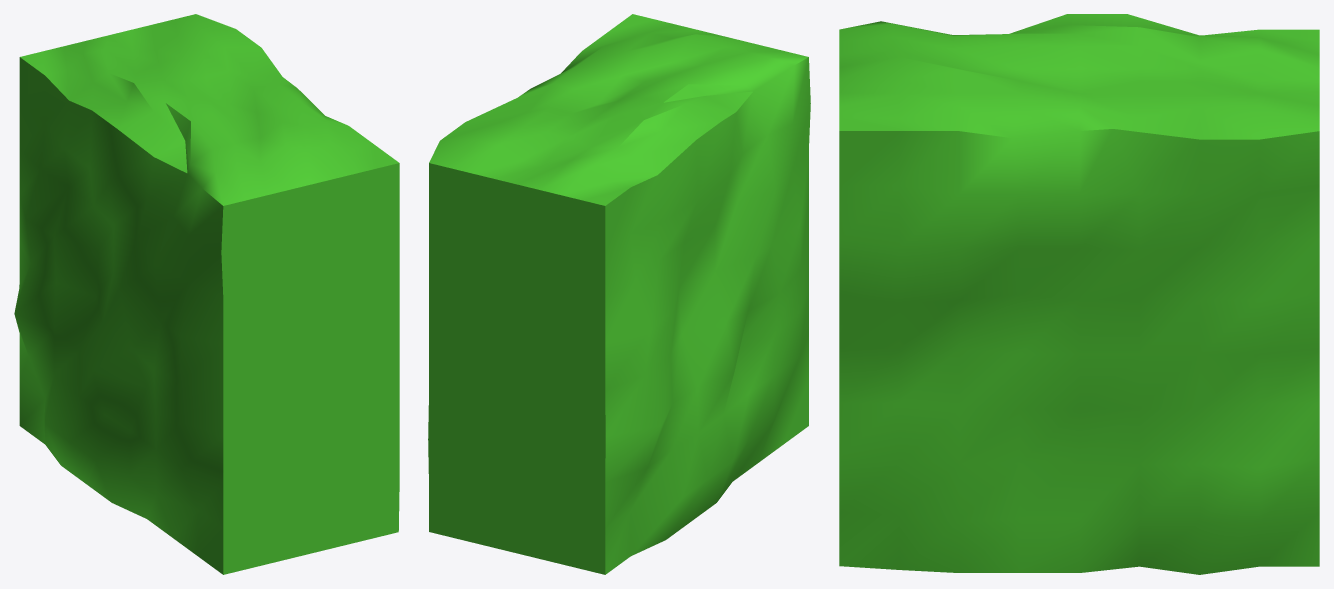
The model's file is yybuisson.fbx.
3 views of the same model, side by side, from view 1: azimuth 30°, elevation 25°; view 2: azimuth 150°, elevation 25°; view 3: azimuth 270°, elevation 25° (orthographic). The views are drawn at different scales.
Visible parts, largest first — view 1: Cube; view 2: Cube; view 3: Cube.
Part boxes in pixels (x1=…): Cube: x1=14, y1=14, x2=399, y2=574; Cube: x1=428, y1=14, x2=810, y2=574; Cube: x1=839, y1=14, x2=1319, y2=574.
Bounding box in the file's own units: 127 × 211 × 200.
